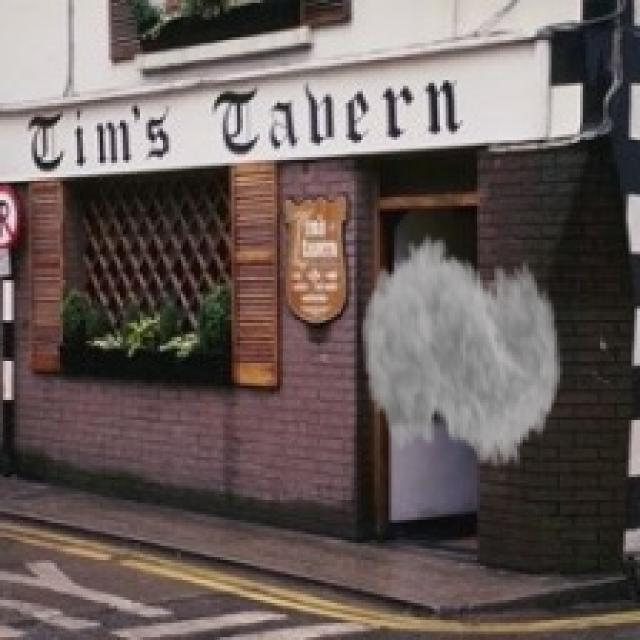smoke: (360, 214, 563, 497)
